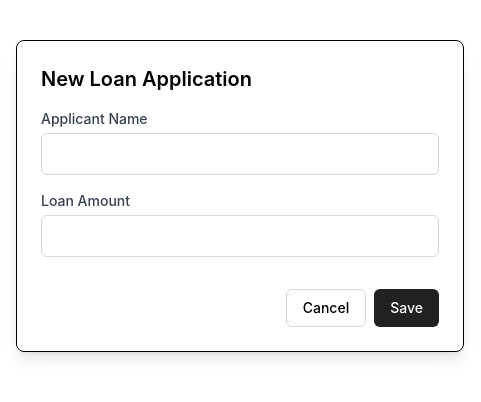
Scenario: LoanForm Component › validates Loan Amount when value is not a number
In the field labelled "Loan Amount": (240, 236) [41, 215, 439, 257], type "1a"
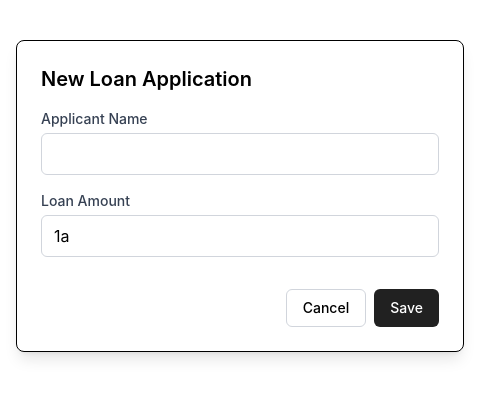
Click the button "Save": (407, 308) [374, 289, 439, 327]
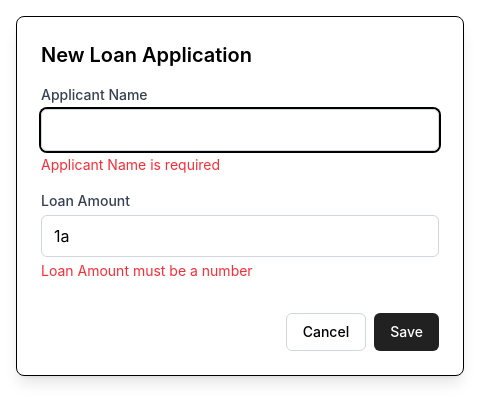
Now the text "Loan Amount must be a number" is shown, box [41, 262, 253, 279]
